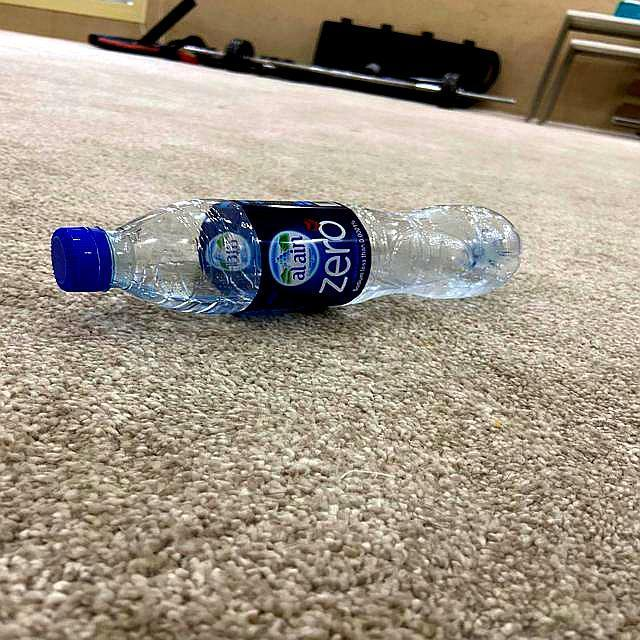Non-biodegradable: (51, 191, 537, 319)
